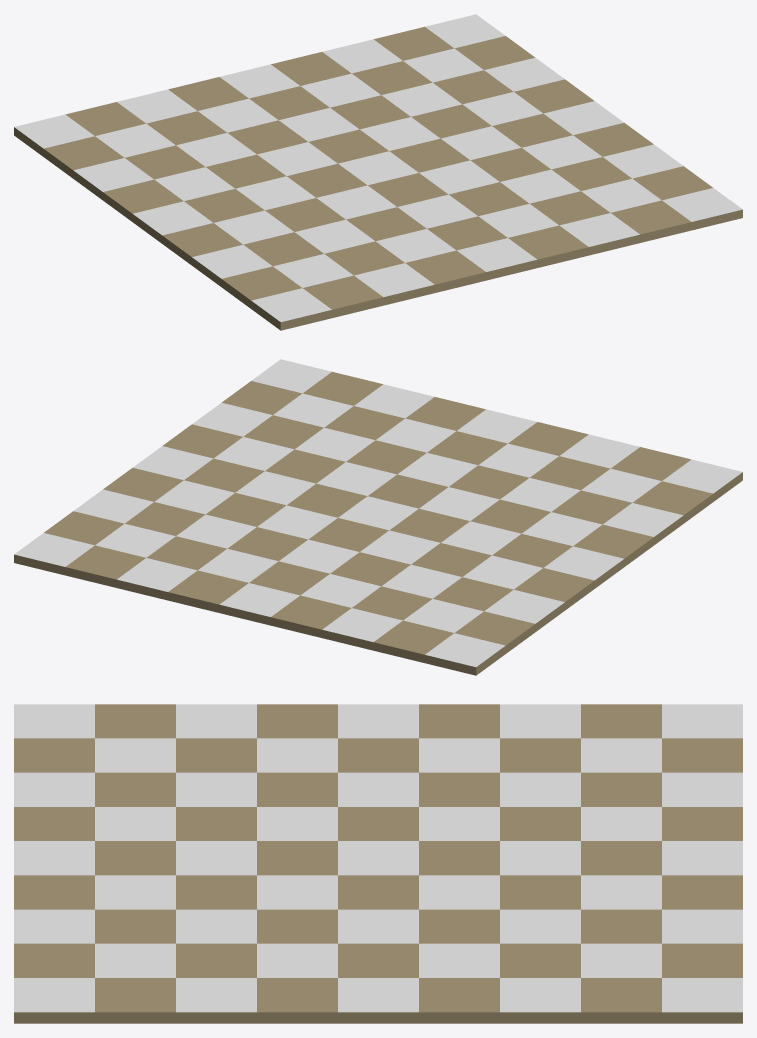
File: DamierAsset.fbx
3 views of the same model, one above another, from view 1: azimuth 30°, elevation 25°; view 2: azimuth 150°, elevation 25°; view 3: azimuth 270°, elevation 25° (orthographic). The views are drawn at different scales.
Visible parts, largest first — view 1: Damier; view 2: Damier; view 3: Damier.
Part boxes in pixels (bbox=[...]): Damier: bbox=[14, 14, 742, 330]; Damier: bbox=[14, 359, 742, 675]; Damier: bbox=[14, 704, 742, 1023].
Bounding box in the file's own units: 700 × 12.26 × 700.
